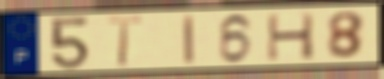5: (47, 17, 91, 71)
6: (217, 13, 254, 64)
8: (324, 10, 367, 60)
H: (264, 11, 317, 62)
I: (182, 13, 197, 66)
T: (105, 14, 146, 69)
